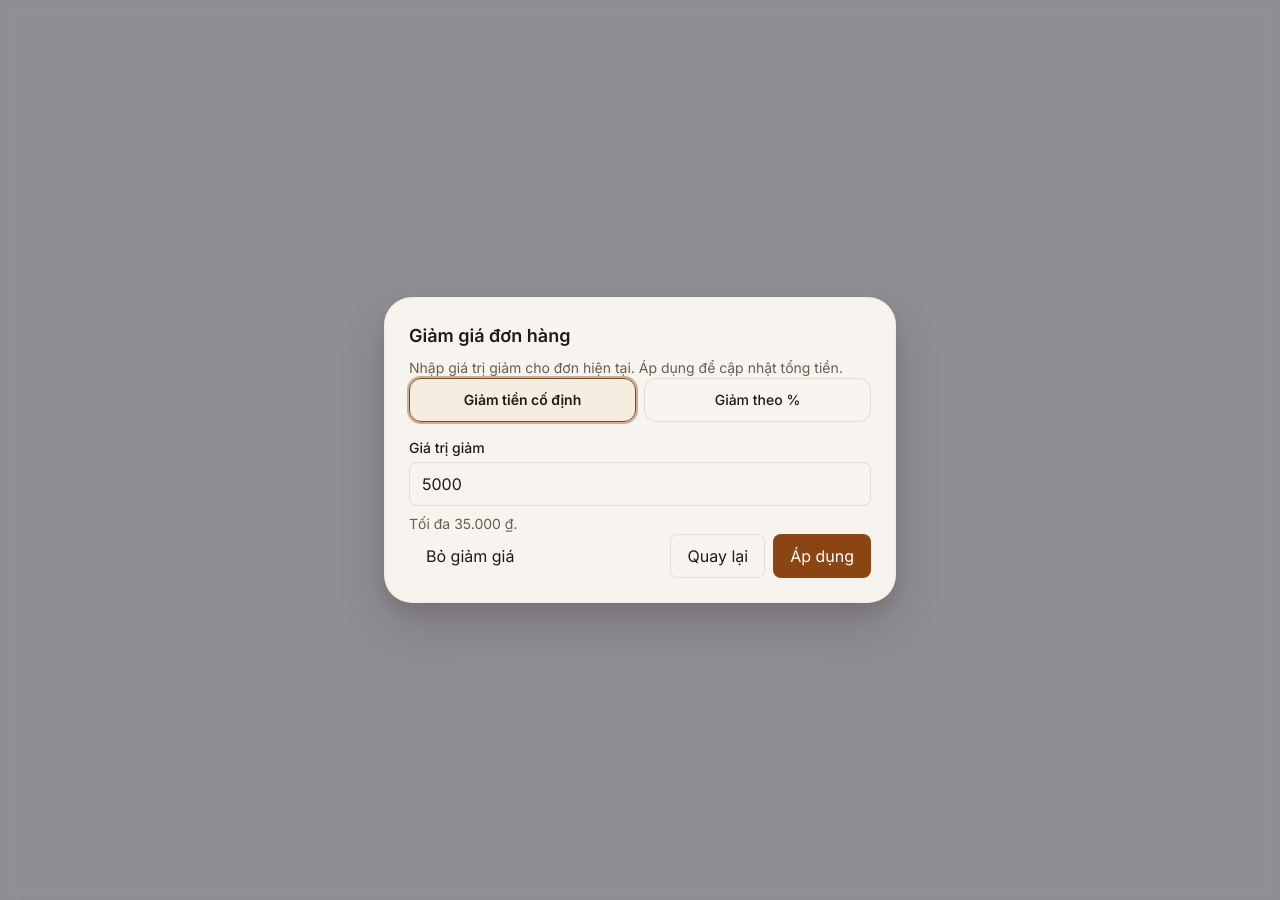
it: DiscountModal › switches radio fixed to percentage and resets input
The image size is (1280, 900).
Expected: the field labelled "Giá trị giảm" holds "5000", x1=409 y1=462 x2=871 y2=506
Click the radio button labelled "Giảm theo %" at coordinates (758, 400), box x1=644 y1=378 x2=871 y2=422
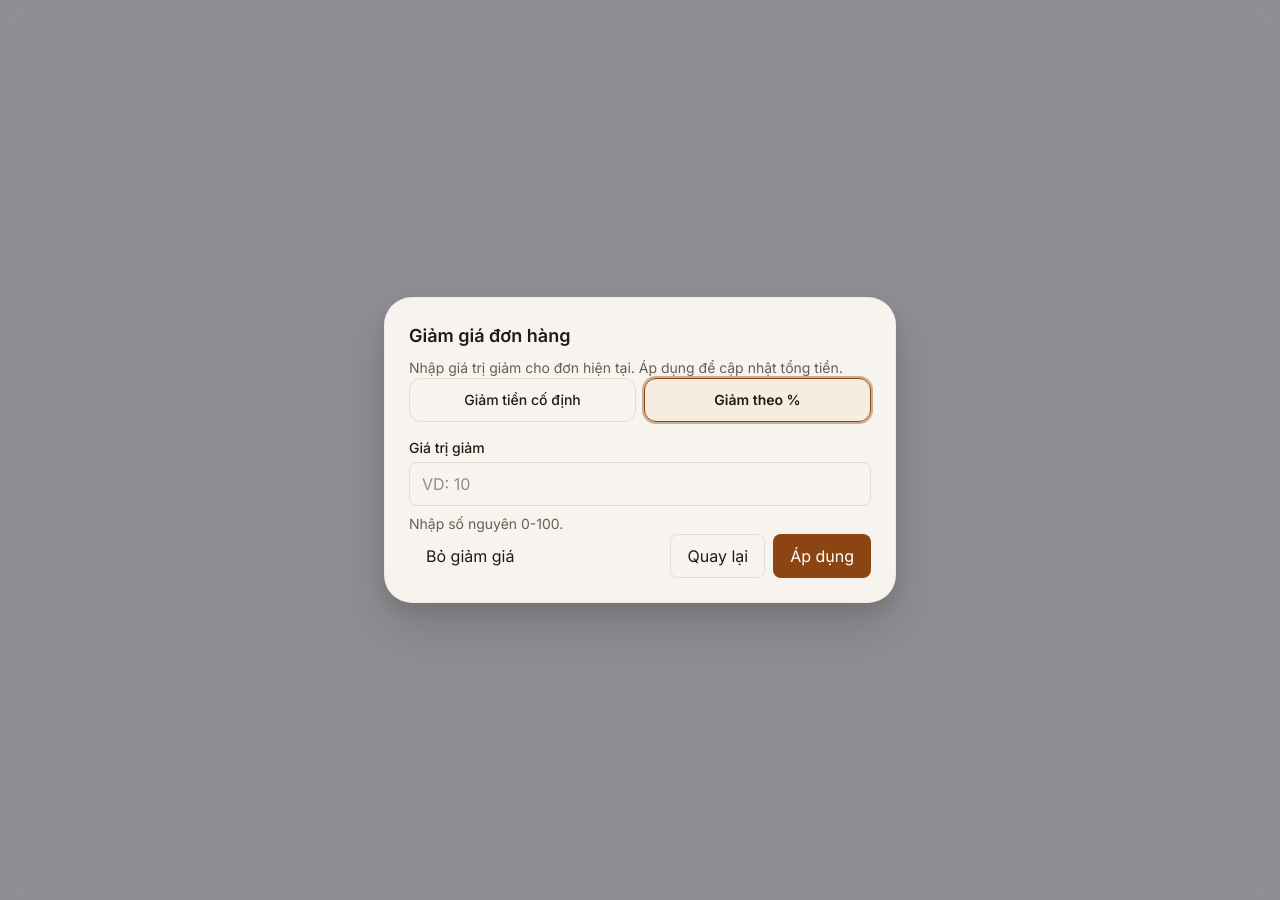
Result: the radio button labelled "Giảm theo %" is checked at x1=644 y1=378 x2=871 y2=422
Result: the field labelled "Giá trị giảm" is empty at x1=409 y1=462 x2=871 y2=506
Result: the text "Nhập số nguyên 0-100." is shown at x1=409 y1=515 x2=563 y2=532
